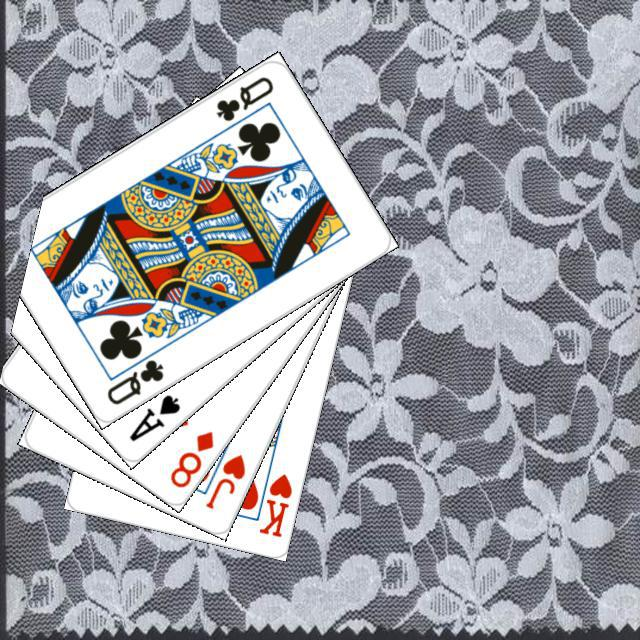8d: (165, 426, 216, 490)
As: (123, 389, 182, 444)
Jh: (200, 449, 248, 511)
Kh: (248, 459, 294, 539)
Qc: (101, 343, 166, 407), (211, 71, 276, 123)
